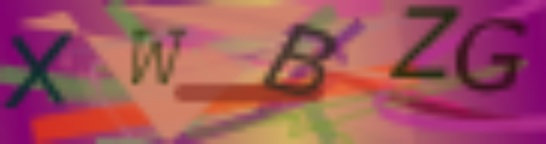B: (258, 20, 338, 97)
G: (453, 13, 527, 97)
W: (126, 30, 187, 87)
X: (3, 28, 73, 114)
Z: (388, 4, 464, 81)
